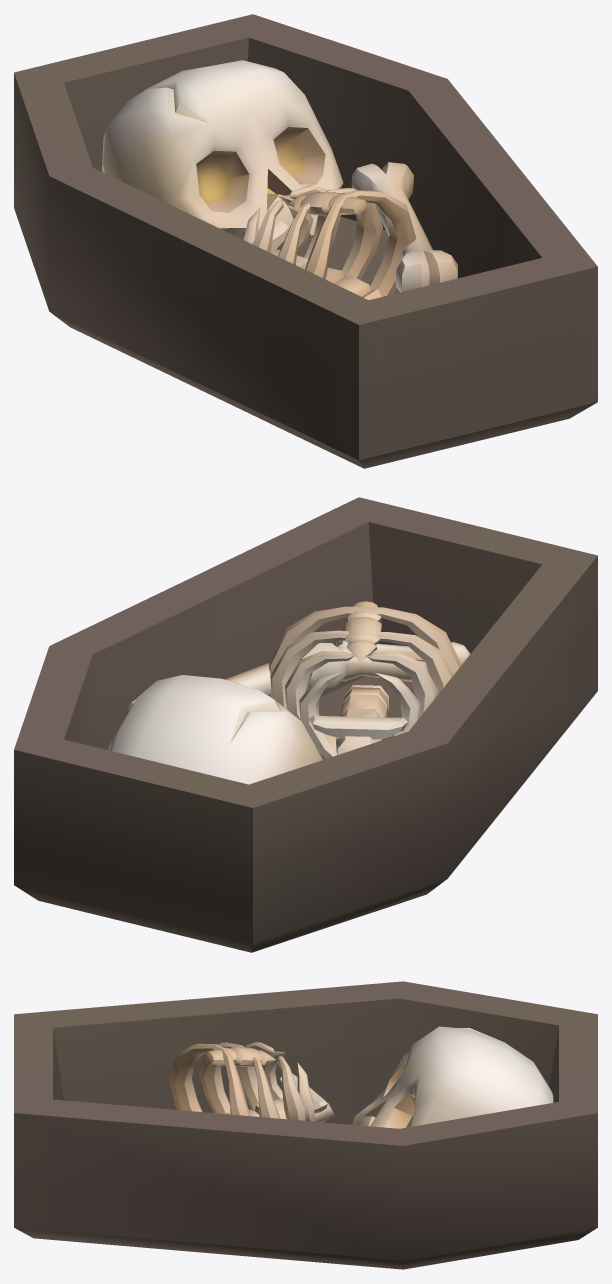
File: kay-caixao-ornado.gltf
The picture shows the model from 3 angles, top to bottom: view 1: azimuth 30°, elevation 25°; view 2: azimuth 150°, elevation 25°; view 3: azimuth 270°, elevation 25°; orthographic projection. The views are drawn at different scales.
Visible parts, largest first — view 1: coffin_decorated; view 2: coffin_decorated; view 3: coffin_decorated.
Boxes of the visible parts, x1=… form: coffin_decorated: x1=14, y1=14, x2=597, y2=468; coffin_decorated: x1=14, y1=497, x2=597, y2=952; coffin_decorated: x1=14, y1=981, x2=597, y2=1269.
Size of the model in its own units: 1 by 0.4512 by 1.5.
Materials: 1 (1 with a texture image).
